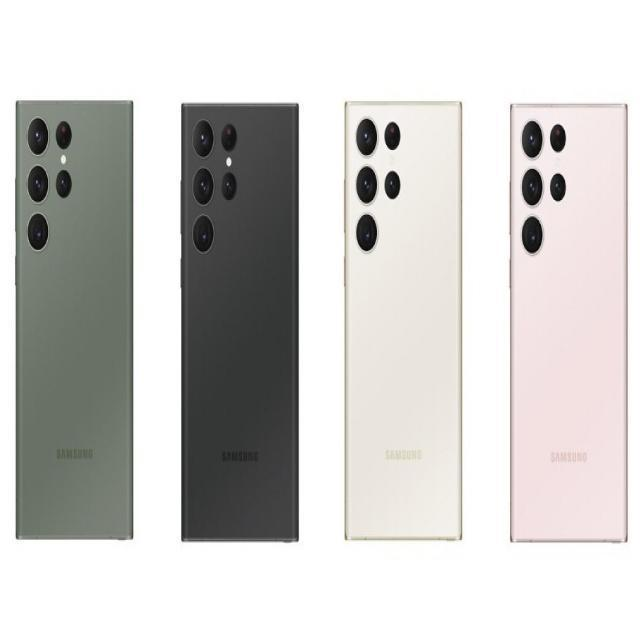phone: (15, 93, 136, 549), (510, 101, 630, 544), (181, 102, 300, 548), (346, 101, 464, 544)
